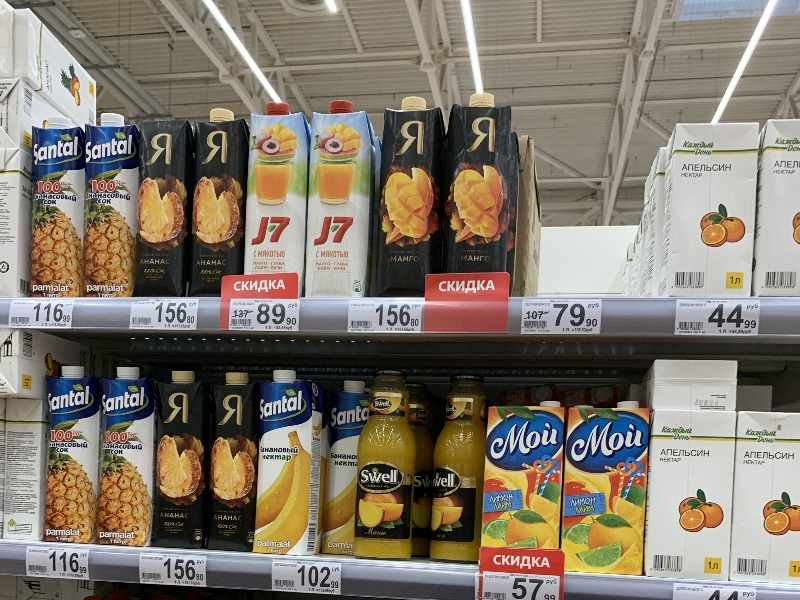juice: (298, 93, 387, 305), (366, 98, 457, 302), (556, 395, 658, 576), (436, 90, 524, 274), (247, 369, 331, 559), (477, 398, 575, 556), (68, 112, 148, 303), (20, 116, 100, 301), (89, 363, 166, 548), (126, 108, 197, 306), (184, 106, 254, 305), (34, 363, 108, 548), (200, 370, 274, 554), (242, 99, 316, 279), (147, 364, 217, 551)
